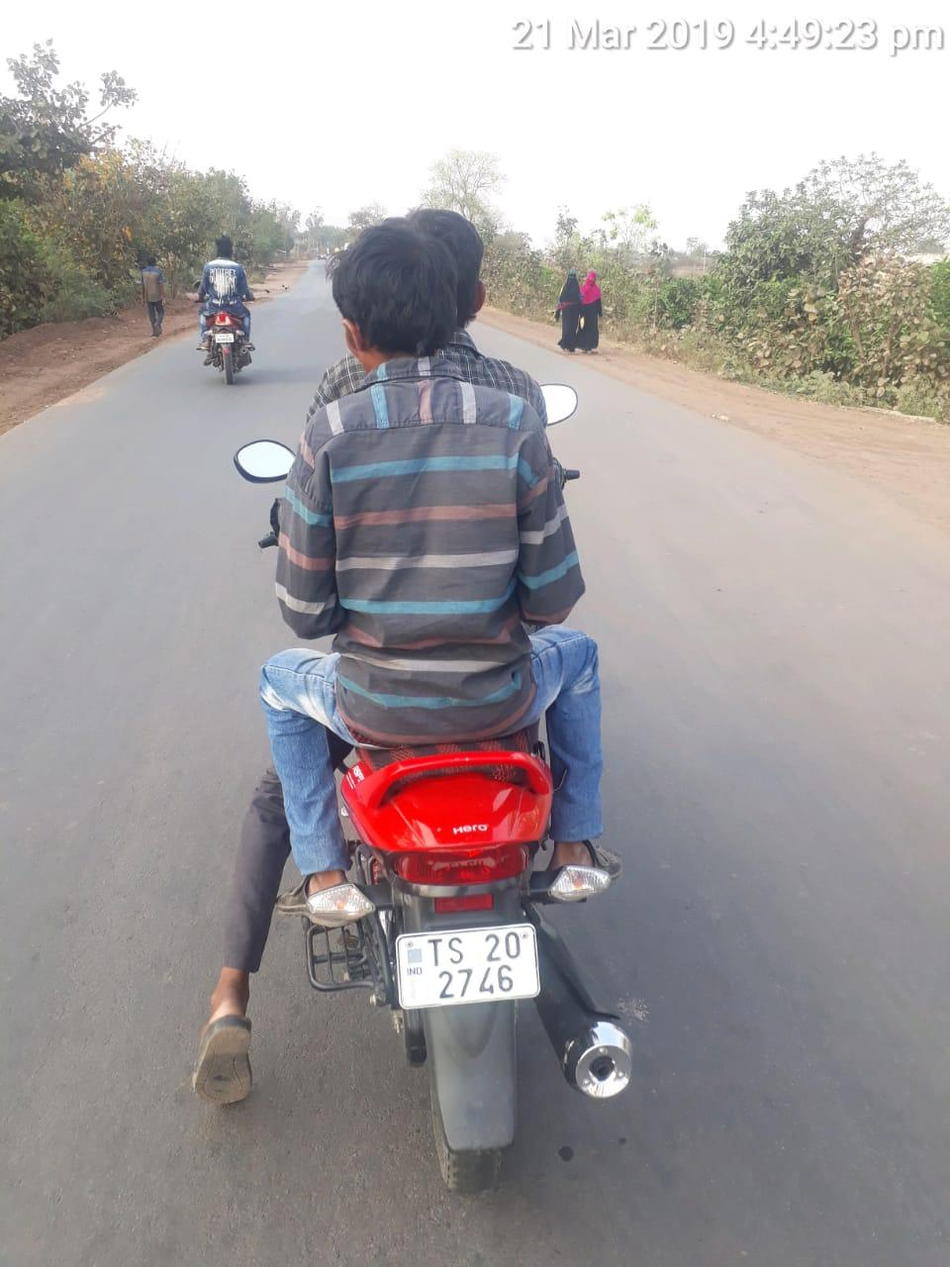plate: (386, 909, 561, 1029)
